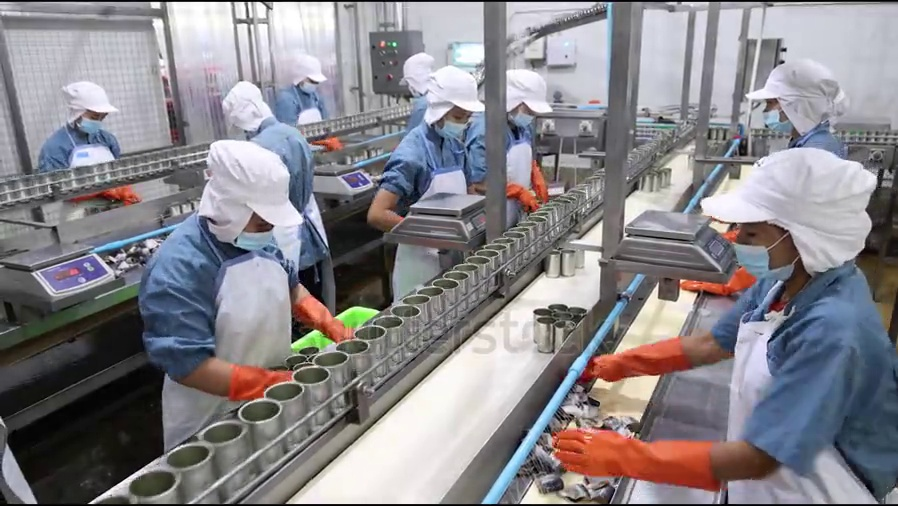employé: (704, 159, 867, 506), (190, 138, 294, 359), (415, 81, 477, 240), (760, 56, 845, 156), (487, 58, 547, 196), (43, 65, 126, 160), (219, 81, 275, 153), (281, 49, 335, 114), (393, 42, 437, 108)
machine: (97, 223, 596, 472), (22, 102, 414, 309)
produit: (204, 413, 252, 499), (165, 442, 218, 506), (242, 393, 280, 479), (266, 376, 301, 466), (298, 353, 331, 443), (320, 342, 350, 420), (341, 333, 369, 414), (353, 319, 385, 383), (128, 466, 176, 506), (398, 293, 436, 336), (441, 259, 468, 313), (433, 275, 459, 331), (466, 251, 492, 301), (448, 264, 484, 299), (379, 316, 403, 363), (393, 307, 419, 350), (425, 285, 446, 333), (482, 238, 506, 279), (495, 231, 518, 272), (522, 213, 539, 262), (527, 207, 547, 248), (509, 220, 526, 268), (543, 197, 561, 234), (186, 136, 204, 168), (648, 136, 666, 165), (571, 182, 593, 205), (554, 191, 575, 215), (566, 187, 583, 215), (636, 141, 650, 175), (15, 170, 27, 207), (589, 175, 602, 206), (87, 164, 103, 188), (55, 163, 68, 191), (180, 145, 193, 172), (664, 127, 677, 154), (297, 119, 311, 144), (630, 149, 642, 178), (25, 166, 36, 196), (44, 168, 57, 191), (156, 146, 167, 173), (135, 152, 148, 173), (166, 144, 178, 166), (104, 163, 117, 182), (68, 168, 83, 184), (147, 147, 157, 170), (682, 119, 692, 141), (376, 108, 386, 129), (117, 160, 128, 178), (365, 113, 376, 130), (388, 107, 401, 121), (320, 121, 335, 132), (37, 172, 44, 194), (356, 116, 365, 131), (129, 156, 136, 175), (312, 123, 320, 138), (347, 115, 353, 133), (337, 117, 343, 132)
